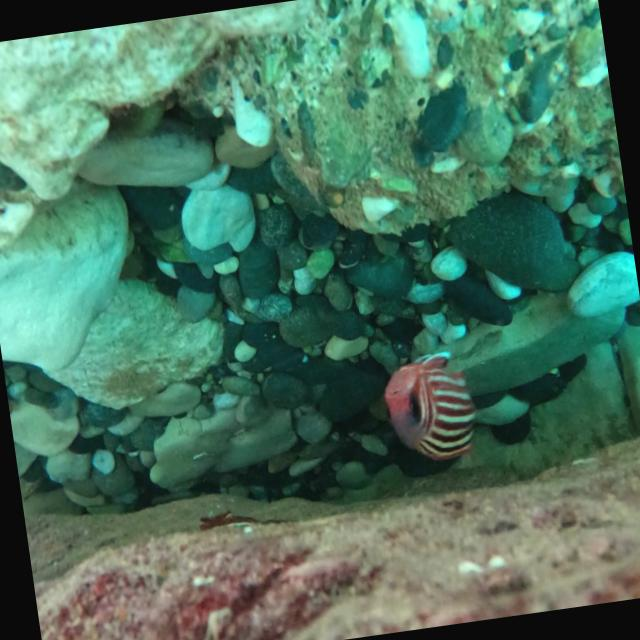Asker Baligi: (358, 332, 498, 492)
